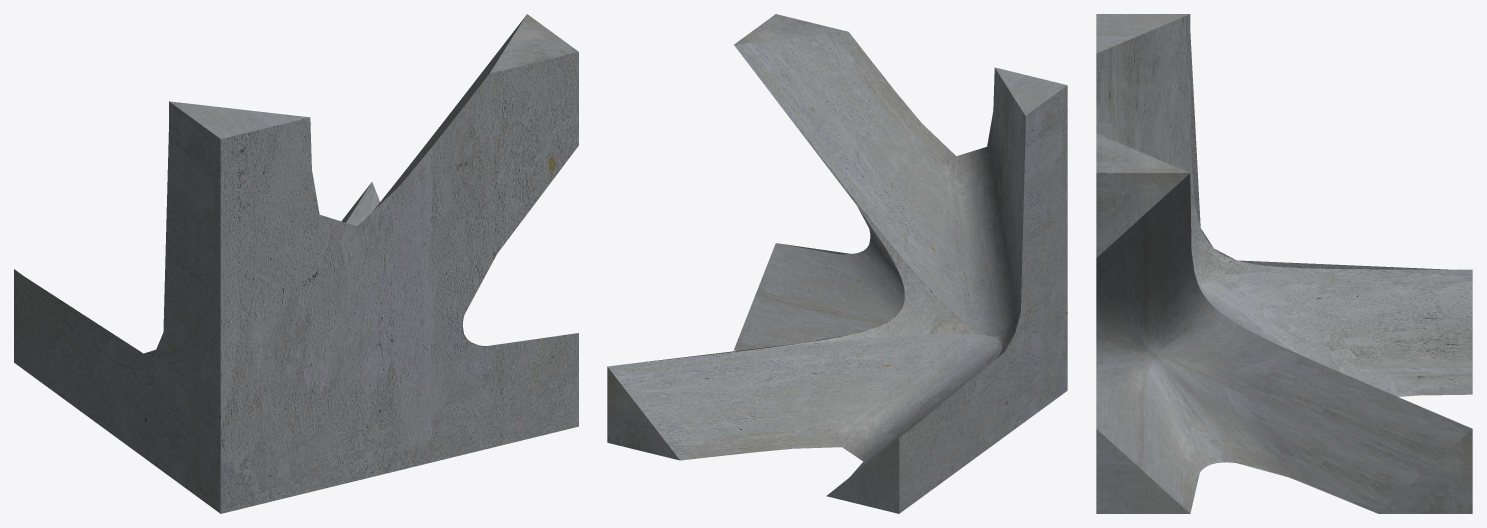
The model's file is module_P4.fbx.
The picture shows the model from 3 angles, left to right: view 1: azimuth 30°, elevation 25°; view 2: azimuth 150°, elevation 25°; view 3: azimuth 270°, elevation 25°; orthographic projection. The views are drawn at different scales.
Visible parts, largest first — view 1: modules; view 2: modules; view 3: modules.
Boxes of the visible parts, x1,y1,x2,y2 form: modules: (14, 14, 578, 513); modules: (607, 14, 1067, 513); modules: (1096, 14, 1472, 513).
Size of the model in its own units: 1000 by 1000 by 1000.
Materials: 1 (1 with a texture image).
